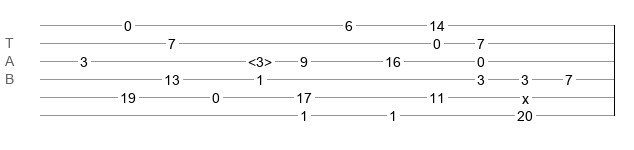0: (124, 18, 132, 28), (212, 90, 220, 100), (433, 36, 441, 46), (477, 54, 485, 64)
1: (256, 72, 264, 82), (300, 108, 308, 118), (389, 108, 397, 118)
11: (429, 90, 445, 100)
13: (164, 72, 180, 82)
14: (429, 18, 445, 28)
16: (385, 54, 401, 64)
17: (296, 90, 312, 100)
19: (120, 90, 136, 100)
20: (517, 108, 533, 118)
3: (80, 54, 88, 64), (477, 72, 485, 82), (521, 72, 529, 82)
6: (345, 18, 353, 28)
7: (168, 36, 176, 46), (477, 36, 485, 46), (565, 72, 573, 82)
9: (300, 54, 308, 64)
harmonic: (248, 54, 272, 64)
x: (522, 91, 529, 99)
